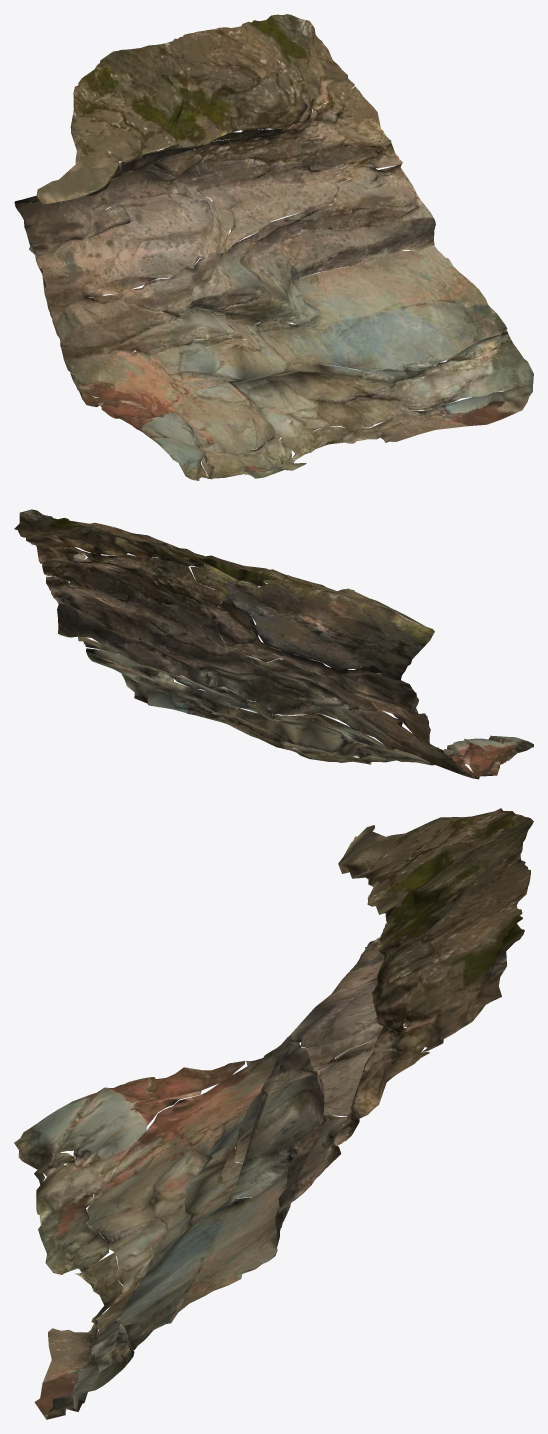
File: rock_face_01.glb
3 renders of one model, top to bottom at view 1: azimuth 30°, elevation 25°; view 2: azimuth 150°, elevation 25°; view 3: azimuth 270°, elevation 25°, orthographic. The views are drawn at different scales.
Parts seen in each view (by area): view 1: rock_face_01; view 2: rock_face_01; view 3: rock_face_01.
Boxes of the visible parts, bbox=[...] form: rock_face_01: bbox=[14, 14, 533, 480]; rock_face_01: bbox=[14, 509, 533, 779]; rock_face_01: bbox=[14, 808, 533, 1419].
Size of the model in its own units: 4.95 by 3.57 by 3.83.
Materials: 1 (1 with a texture image).
